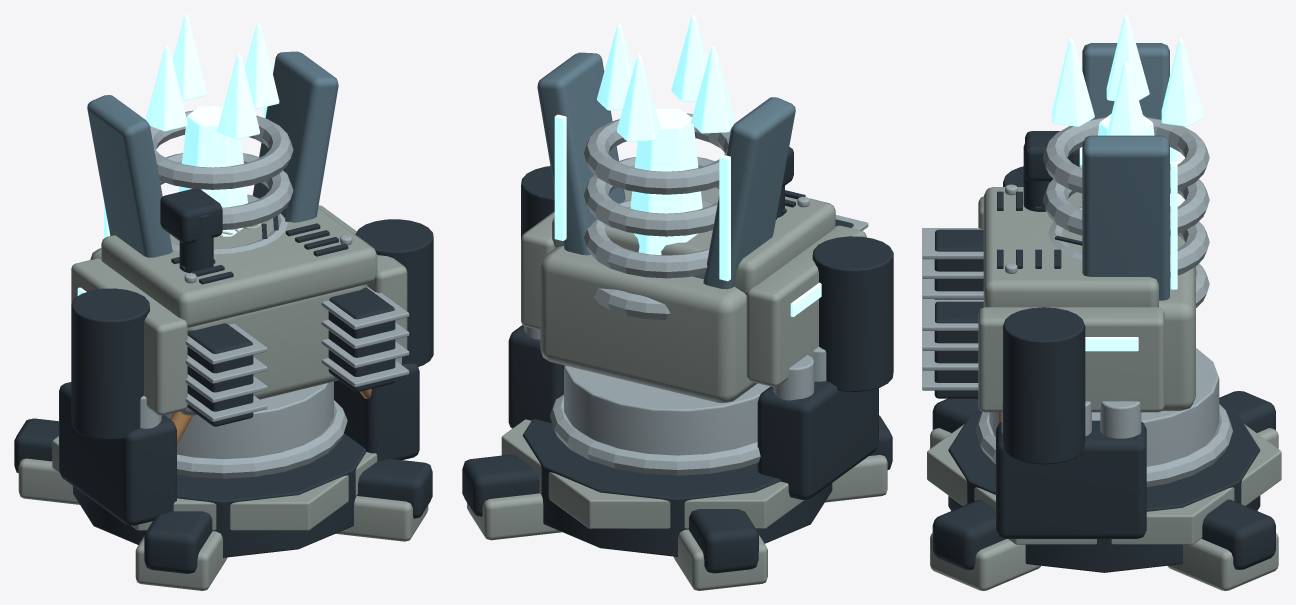
File: 08_deepfreeze_zero.glb
3 renders of one model, left to right at view 1: azimuth 30°, elevation 25°; view 2: azimuth 150°, elevation 25°; view 3: azimuth 270°, elevation 25°, orthographic. The views are drawn at different scales.
Parts seen in each view (by area): view 1: Recessed bearing, Armored cradle, Cooling vent, Emitter fin, Rivet, Armored footing, Identification strip, Bearing; view 2: Armored cradle, Recessed bearing, Bearing, Identification strip, Emitter fin, Armored footing, Rivet, Cooling vent; view 3: Recessed bearing, Armored cradle, Cooling vent, Emitter fin, Rivet, Armored footing, Identification strip, Bearing.
Boxes of the visible parts, <box> form: Recessed bearing: <box>14,363,432,573</box>; Armored cradle: <box>71,205,407,415</box>; Cooling vent: <box>71,188,433,439</box>; Emitter fin: <box>87,51,338,257</box>; Rivet: <box>150,110,409,421</box>; Armored footing: <box>18,436,428,590</box>; Identification strip: <box>77,14,279,295</box>; Bearing: <box>140,357,401,478</box>; Armored cradle: <box>521,187,866,402</box>; Recessed bearing: <box>462,325,892,573</box>; Bearing: <box>524,326,826,475</box>; Identification strip: <box>554,14,821,316</box>; Emitter fin: <box>537,52,795,289</box>; Armored footing: <box>467,419,887,590</box>; Rivet: <box>584,113,868,319</box>; Cooling vent: <box>521,147,893,391</box>; Recessed bearing: <box>932,391,1275,572</box>; Armored cradle: <box>978,187,1195,412</box>; Cooling vent: <box>934,131,1085,464</box>; Emitter fin: <box>1082,43,1169,300</box>; Rivet: <box>922,117,1209,390</box>; Armored footing: <box>927,424,1281,590</box>; Identification strip: <box>1052,14,1204,351</box>; Bearing: <box>975,348,1232,487</box>.
Size of the model in its own units: 1.54 by 1.95 by 1.31.
